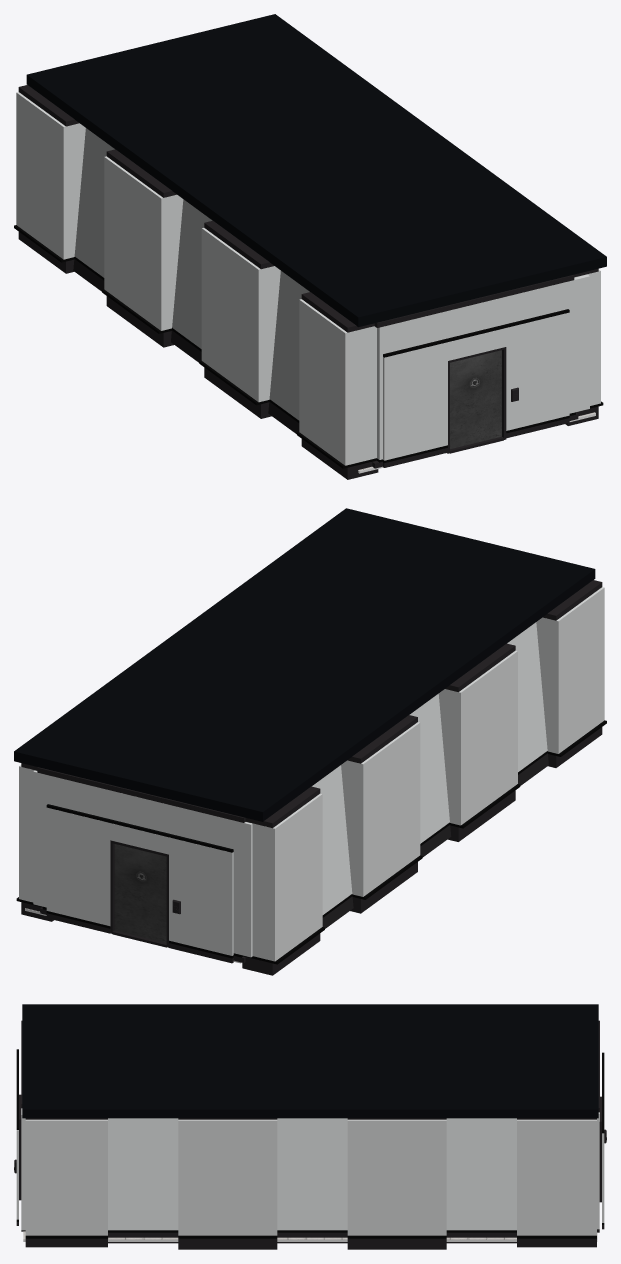
The model's file is SCP Hallway A.obj.
The picture shows the model from 3 angles, top to bottom: view 1: azimuth 30°, elevation 25°; view 2: azimuth 150°, elevation 25°; view 3: azimuth 270°, elevation 25°; orthographic projection. The views are drawn at different scales.
Visible parts, largest first — view 1: Part6, Part74, Part66, Part54, Part50, Part173, Part1, Part79, Door5, Part70, Part58, Part62 (+12 smaller); view 2: Part6, Part54, Part66, Part50, Part74, Part177, Part11, Door2, Part171, Part3, Part58, Part62 (+12 smaller); view 3: Part6, Part26, Part38, Part22, Part46, Part34, Part30, Part42, Part23, Part35, Part19, Part43 (+7 smaller).
Part boxes in pixels (bbox=[...]): Part6: bbox=[26, 14, 606, 327]; Part74: bbox=[299, 299, 376, 465]; Part66: bbox=[201, 228, 280, 402]; Part54: bbox=[104, 156, 183, 330]; Part50: bbox=[16, 92, 85, 259]; Part173: bbox=[383, 342, 447, 460]; Part1: bbox=[506, 312, 569, 430]; Part79: bbox=[503, 274, 589, 413]; Door5: bbox=[450, 350, 501, 448]; Part70: bbox=[269, 271, 309, 420]; Part58: bbox=[74, 128, 114, 277]; Part62: bbox=[172, 199, 212, 348]; Part6: bbox=[14, 508, 595, 821]; Part54: bbox=[341, 722, 420, 896]; Part66: bbox=[438, 650, 517, 825]; Part50: bbox=[247, 793, 322, 961]; Part74: bbox=[536, 587, 604, 753]; Part177: bbox=[46, 807, 110, 925]; Part11: bbox=[169, 837, 233, 955]; Door2: bbox=[114, 844, 166, 942]; Part171: bbox=[171, 805, 252, 957]; Part3: bbox=[33, 770, 112, 907]; Part58: bbox=[312, 765, 352, 914]; Part62: bbox=[409, 693, 449, 843]; Part6: bbox=[22, 1004, 598, 1118]; Part26: bbox=[178, 1119, 277, 1235]; Part38: bbox=[347, 1119, 446, 1235]; Part22: bbox=[25, 1119, 107, 1235]; Part46: bbox=[517, 1119, 596, 1235]; Part34: bbox=[277, 1118, 347, 1230]; Part30: bbox=[108, 1118, 178, 1230]; Part42: bbox=[446, 1118, 516, 1230]; Part23: bbox=[178, 1238, 277, 1249]; Part35: bbox=[347, 1238, 446, 1249]; Part19: bbox=[25, 1238, 107, 1247]; Part43: bbox=[517, 1238, 596, 1247].
Bounding box in the file's own units: 22.36 × 13.38 × 50.42.
9 materials, 2 textured.
